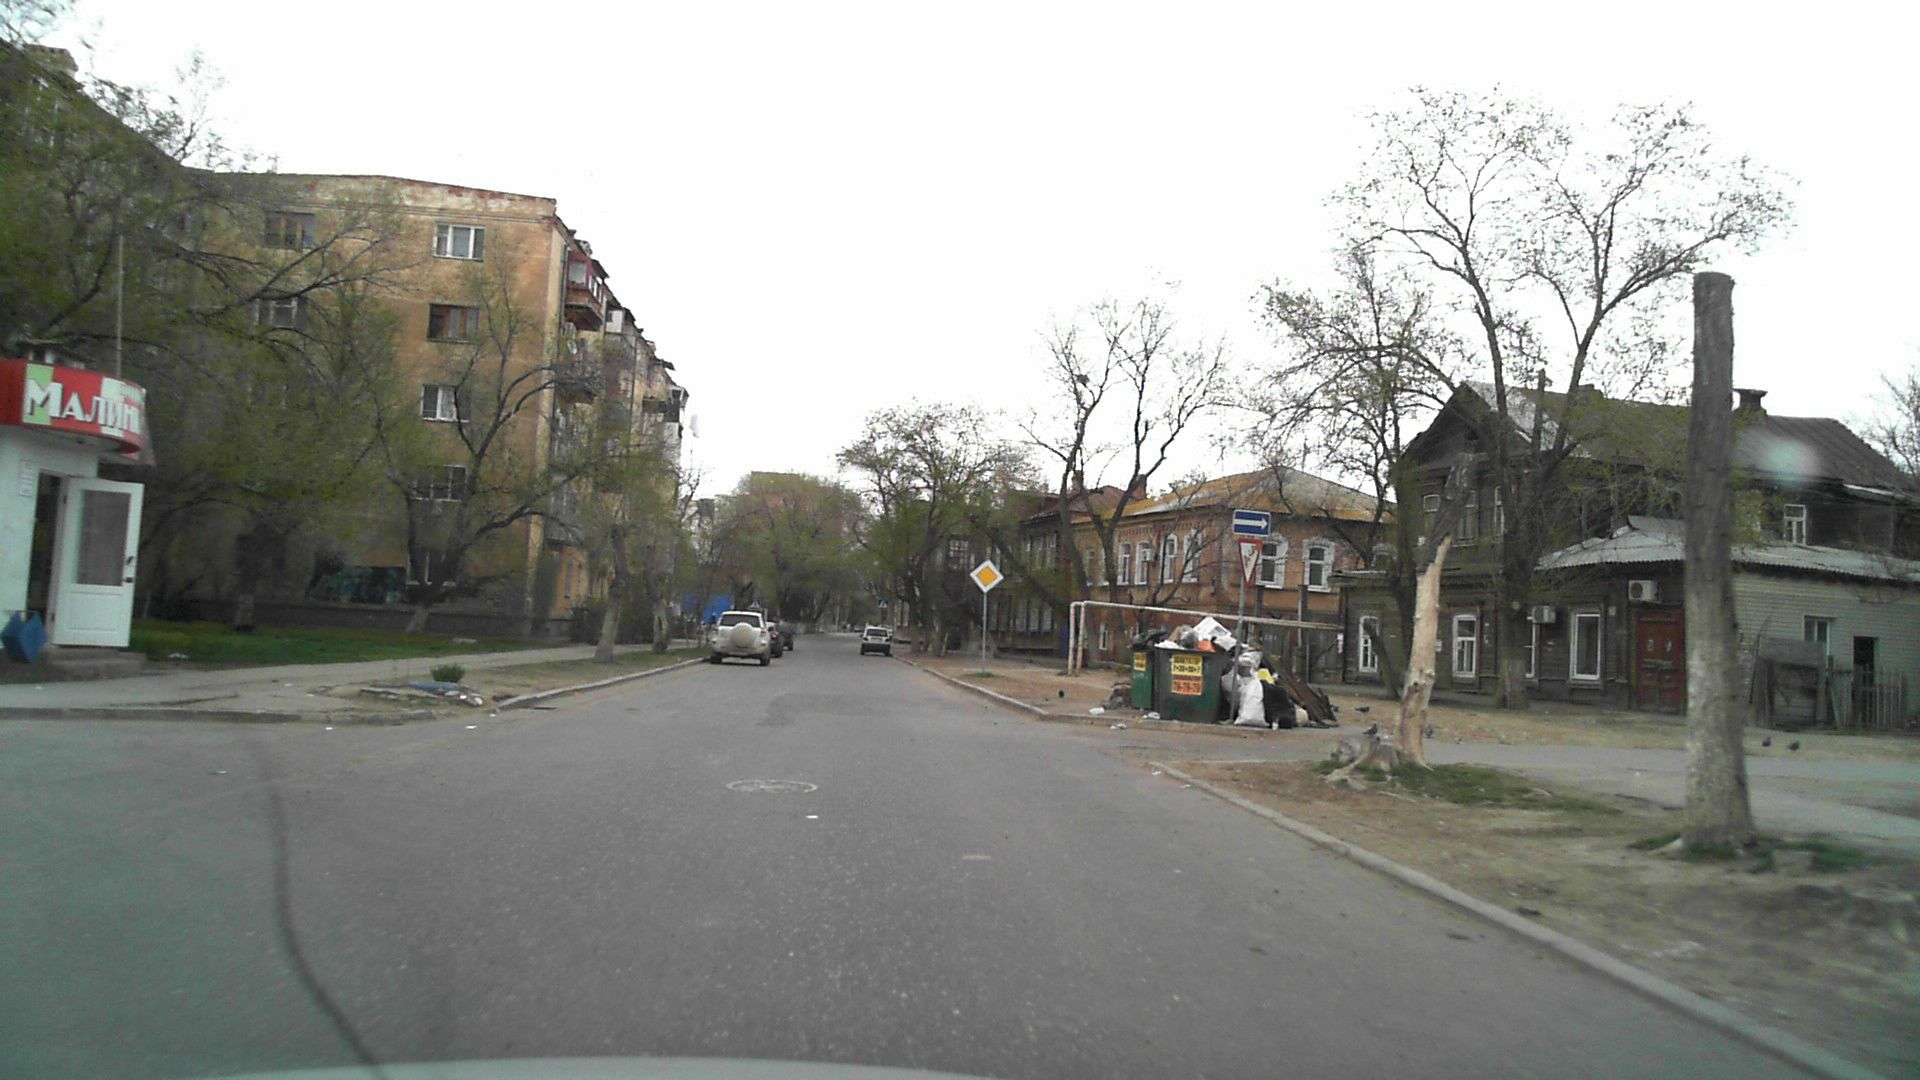One-Way Traffic: (1233, 510, 1271, 535)
